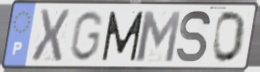G: (68, 10, 105, 63)
M: (135, 9, 183, 64), (100, 10, 146, 63)
O: (211, 10, 248, 65)
S: (175, 9, 213, 66)
X: (29, 8, 72, 65)
